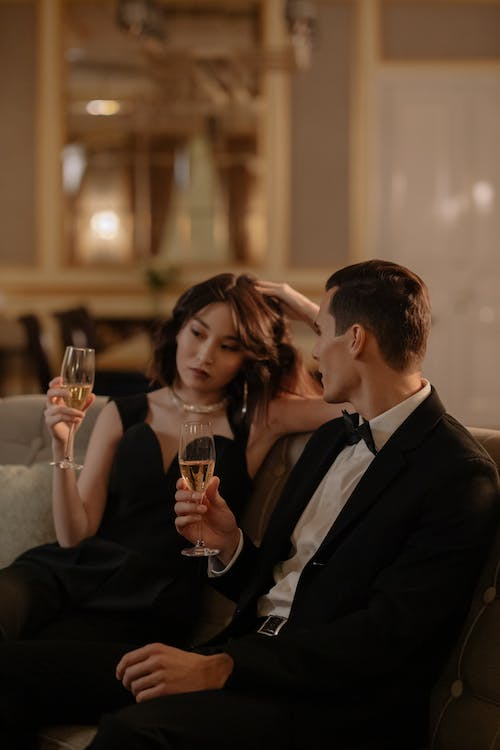alcohol: (47, 342, 98, 471), (176, 420, 222, 557)
